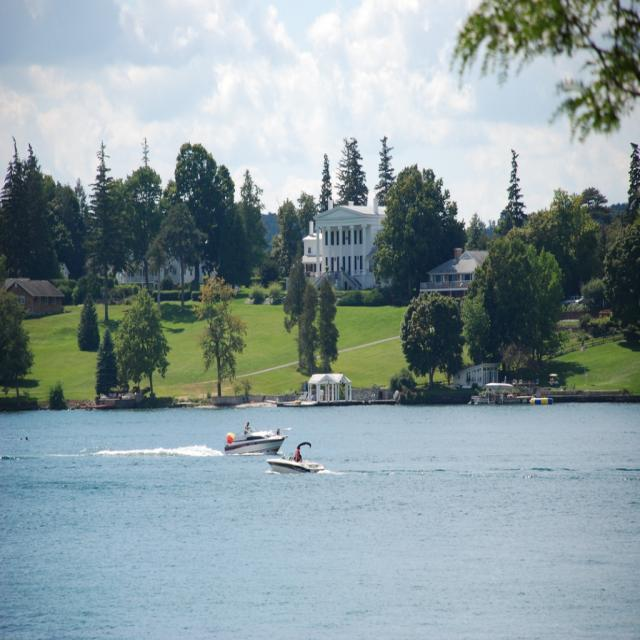Boat: (215, 419, 324, 476), (269, 455, 322, 477)
